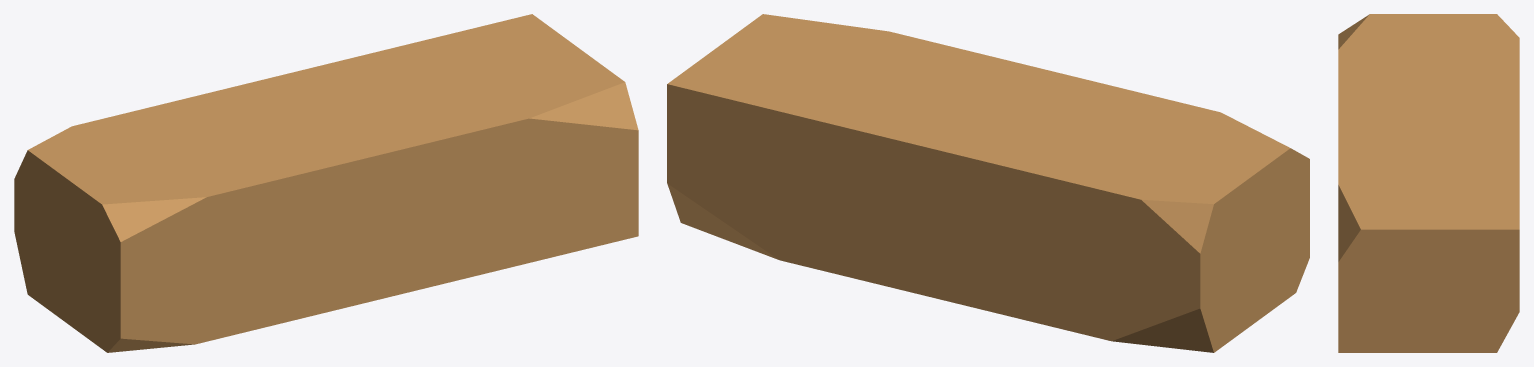
File: egypt-stone-block-square.glb
The picture shows the model from 3 angles, left to right: view 1: azimuth 30°, elevation 25°; view 2: azimuth 150°, elevation 25°; view 3: azimuth 270°, elevation 25°; orthographic projection. The views are drawn at different scales.
Parts seen in each view (by area): view 1: egypt-stone-block-square; view 2: egypt-stone-block-square; view 3: egypt-stone-block-square.
Boxes of the visible parts, x1,y1,x2,y2 form: egypt-stone-block-square: (14,14,638,352); egypt-stone-block-square: (667,14,1309,352); egypt-stone-block-square: (1338,14,1519,352).
Bounding box in the file's own units: 9 × 2.4 × 3.2.
1 material, 1 textured.
